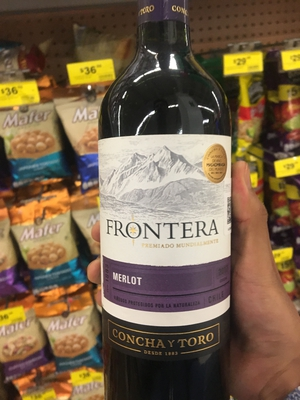frontera merlot: (94, 13, 235, 384)
